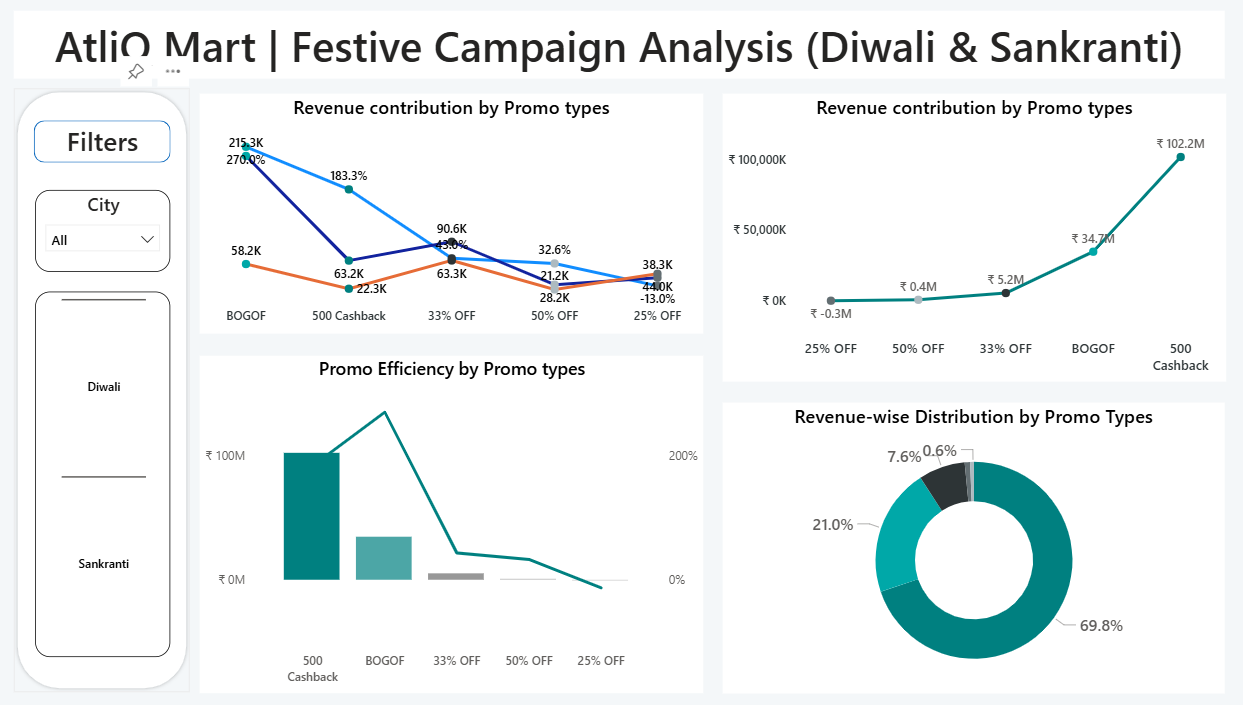

This screenshot's page, from the dashboard's own definition file:
{"tool":"powerbi","page":{"name":"Promotional Campaign Analysis ","canvas":[1280,720],"ordinal":2},"visuals":[{"type":"textbox","box":[27.6,10.8,1225.8,69.1],"z":0},{"type":"shape","box":[27.1,90,178.6,611.4],"z":1000},{"type":"slicer","title":"City","fields":{"Values":["dim_stores.city"]},"box":[48.6,192.9,137.1,82.9],"z":2000},{"type":"shape","box":[47.1,121.4,138.6,42.9],"z":3000},{"type":"textbox","box":[75.7,118.6,82.9,54.3],"z":4000},{"type":"lineChart","title":"Revenue contribution by Promo types","fields":{"Category":["fact_events.promo_type"],"Y":["Measures (2).IR"]},"box":[744.3,94.3,510,291.4],"z":5000},{"type":"slicer","fields":{"Values":["dim_campaign.campaign_name"]},"box":[48.6,295.7,137.1,370],"z":6000},{"type":"lineStackedColumnComboChart","title":"Promo Efficiency by Promo types","fields":{"Category":["fact_events.promo_type"],"Y":["Measures (2).IR"],"Y2":["Measures (2).ISU %"]},"box":[215.7,360,510,341.4],"z":7000},{"type":"lineChart","title":"Revenue contribution by Promo types","fields":{"Category":["fact_events.promo_type"],"Y":["Measures (2).ISU %"],"Y2":["Measures (2).quantity_sold_after","Measures (2).quantity_sold_before"]},"box":[215.7,94.3,510,242.9],"z":8000},{"type":"donutChart","title":"Revenue-wise Distribution by Promo Types","fields":{"Category":["fact_events.promo_type"],"Y":["Measures (2).revenue_after_promo"]},"box":[744.3,407.1,508.6,294.3],"z":9000}]}

Visuals, with their boxes in screenshot pixels (x1, y1, x2, y2), scaled from the page's 1280x720 canvas onto the 1243x705 screenshot:
textbox: crop(27, 11, 1217, 78)
shape: crop(26, 88, 200, 687)
"City" slicer: crop(47, 189, 180, 270)
shape: crop(46, 119, 180, 161)
textbox: crop(74, 116, 154, 169)
"Revenue contribution by Promo types" lineChart: crop(723, 92, 1218, 378)
slicer - dim_campaign.campaign_name: crop(47, 290, 180, 652)
"Promo Efficiency by Promo types" lineStackedColumnComboChart: crop(209, 352, 705, 687)
"Revenue contribution by Promo types" lineChart: crop(209, 92, 705, 330)
"Revenue-wise Distribution by Promo Types" donutChart: crop(723, 399, 1217, 687)
